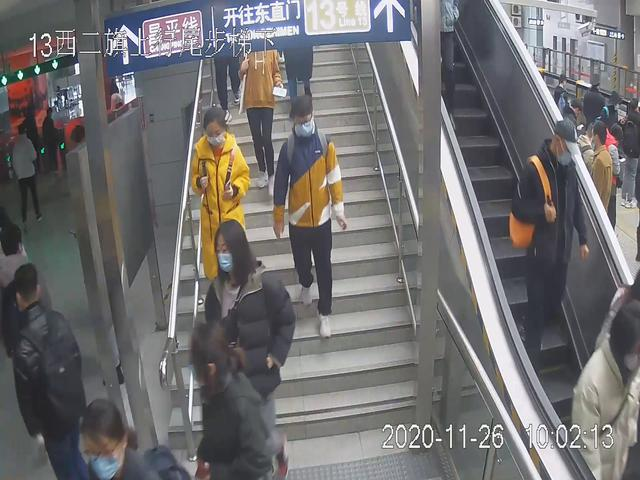person: (200, 216, 299, 478), (509, 115, 593, 374), (266, 95, 350, 340), (9, 262, 93, 480), (184, 101, 252, 329), (234, 45, 286, 202)
